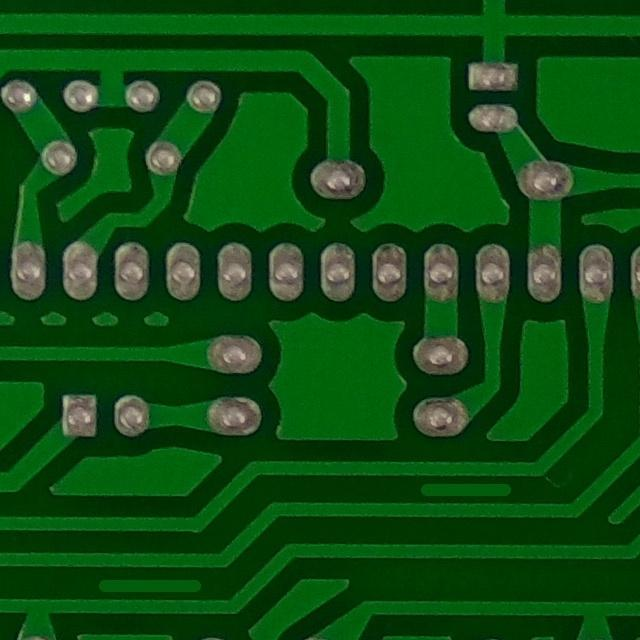spurious_copper: (89, 568, 207, 614), (411, 470, 520, 515)
